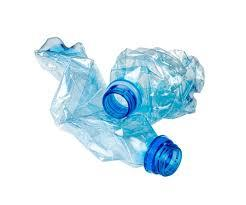plastic: (33, 39, 199, 178)
